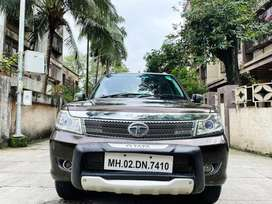MH02DN7410: (103, 151, 172, 172)
